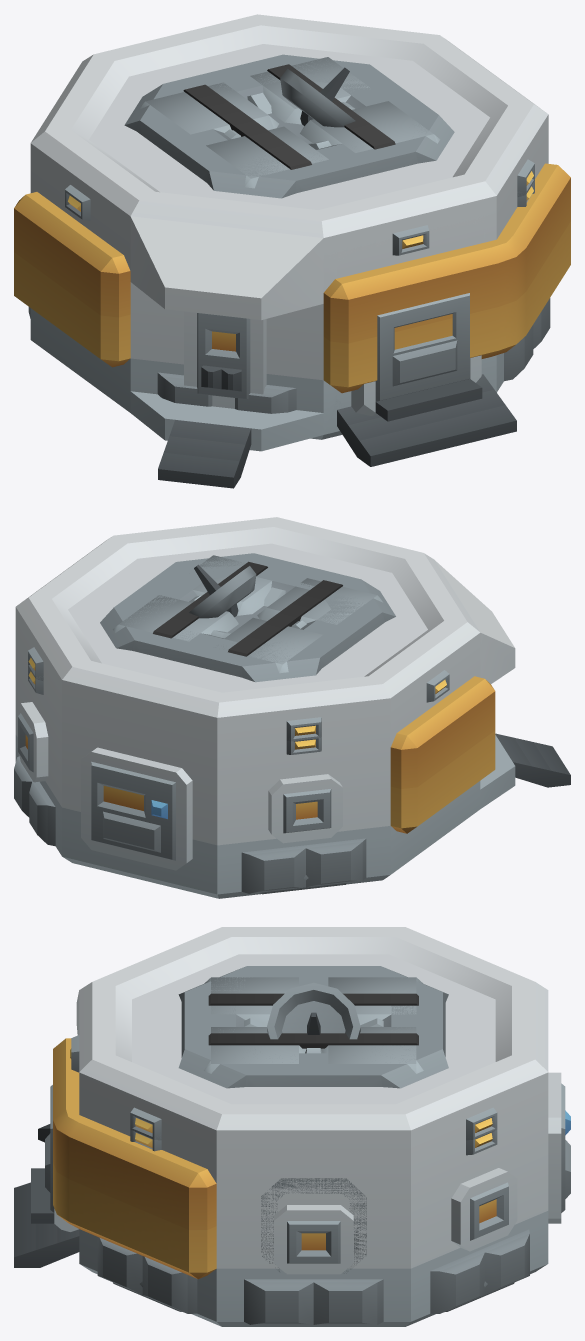
Rendered from kit.glb.
3 views of the same model, one above another, from view 1: azimuth 30°, elevation 25°; view 2: azimuth 150°, elevation 25°; view 3: azimuth 270°, elevation 25° (orthographic). The views are drawn at different scales.
Visible parts, largest first — view 1: basemodule_A, structure_low, basemodule_C, cargo_B_stacked, basemodule_garage, lander_A, lights; view 2: basemodule_A, structure_low, basemodule_garage, cargo_B_stacked, basemodule_C, lander_A, lights; view 3: basemodule_A, basemodule_C, structure_low, cargo_B_stacked, basemodule_garage, lander_A, tunnel_straight_A.
Boxes of the visible parts, box(x1,y1,x2,y2) form: basemodule_A: box(14, 14, 570, 488); structure_low: box(124, 54, 454, 198); basemodule_C: box(28, 159, 550, 421); cargo_B_stacked: box(139, 57, 440, 188); basemodule_garage: box(323, 180, 534, 466); lander_A: box(280, 67, 355, 127); lights: box(224, 92, 354, 149); basemodule_A: box(15, 517, 570, 898); structure_low: box(100, 553, 395, 894); basemodule_garage: box(28, 665, 321, 870); cargo_B_stacked: box(113, 555, 382, 673); basemodule_C: box(14, 647, 366, 893); lander_A: box(189, 564, 256, 618); lights: box(189, 587, 306, 638); basemodule_A: box(38, 927, 548, 1326); basemodule_C: box(31, 1085, 529, 1313); structure_low: box(113, 966, 514, 1311); cargo_B_stacked: box(204, 977, 423, 1073); basemodule_garage: box(14, 1072, 570, 1267); lander_A: box(267, 982, 360, 1039); tunnel_straight_A: box(261, 1178, 366, 1273).
Bounding box in the file's own units: 2.25 × 1.41 × 2.37.
Materials: 2 (2 with a texture image).
